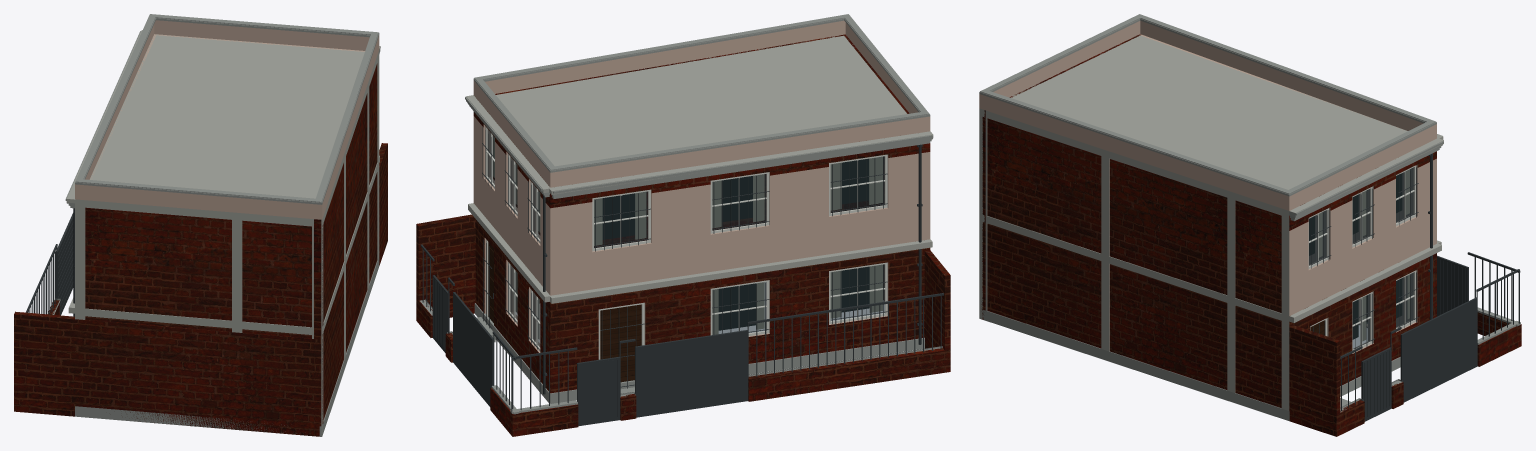
File: building.glb
3 renders of one model, left to right at view 1: azimuth 30°, elevation 25°; view 2: azimuth 150°, elevation 25°; view 3: azimuth 270°, elevation 25°, orthographic. The views are drawn at different scales.
Parts seen in each view (by area): view 1: roof/main:0/roof_slab#0001, site/fence/0/wall#0001, main:0/edge0/z0/main:0/edge0/z0/wall_0_0/core0, main:0/edge1/z0/main:0/edge1/z0/wall_0_0/core0, roof/main:0/parapet#0001, roof/main:0/parapet_cap#0002, roof/main:0/parapet_cap#0001, main:0/edge0/z0/main:0/edge0/z0/beam_0_0/core0, main:0/edge0/z0/main:0/edge0/z0/beam_1_0/core0, main:0/edge0/z0/plinth#0001, main:0/edge1/z0/main:0/edge1/z0/wall_0_0/clip1, main:0/edge0/z0/main:0/edge0/z0/column_2_0 (+7 smaller); view 2: roof/main:0/roof_slab#0001, main:0/edge3/z0/main:0/edge3/z0/wall_0_0, main:0/edge3/z0/main:0/edge3/z0/coating_0_0_0, roof/main:0/parapet#0001, site/fence/3/garage_door#0001, main:0/edge2/z0/main:0/edge2/z0/wall_0_0, site/fence/3/boundary_base#0003, roof/main:0/parapet_cap#0002, site/fence/1/wall#0001, main:0/edge3/z0/floor_slab#0001, site/fence/2/garage_door#0001, main:0/edge3/z0/main:0/edge3/z0/coating_0_1_0 (+40 smaller); view 3: main:0/edge1/z0/main:0/edge1/z0/wall_0_0/core0, roof/main:0/roof_slab#0001, roof/main:0/parapet#0001, main:0/edge2/z0/main:0/edge2/z0/wall_0_0, site/fence/2/garage_door#0001, site/fence/1/wall#0001, roof/main:0/parapet_cap#0002, main:0/edge1/z0/plinth#0001, main:0/edge1/z0/main:0/edge1/z0/beam_0_0/core0, roof/main:0/parapet_cap#0001, main:0/edge1/z0/main:0/edge1/z0/beam_1_0/core0, site/fence/2/pedestrian_gate#0001 (+26 smaller).
Boxes of the visible parts, <box> form: roof/main:0/roof_slab#0001: <box>75,34,364,219</box>; site/fence/0/wall#0001: <box>14,311,319,436</box>; main:0/edge0/z0/main:0/edge0/z0/wall_0_0/core0: <box>85,207,311,338</box>; main:0/edge1/z0/main:0/edge1/z0/wall_0_0/core0: <box>323,63,377,419</box>; roof/main:0/parapet#0001: <box>75,20,379,219</box>; roof/main:0/parapet_cap#0002: <box>75,14,378,202</box>; roof/main:0/parapet_cap#0001: <box>75,15,379,204</box>; main:0/edge0/z0/main:0/edge0/z0/beam_0_0/core0: <box>75,308,313,335</box>; main:0/edge0/z0/main:0/edge0/z0/beam_1_0/core0: <box>75,199,313,226</box>; main:0/edge0/z0/plinth#0001: <box>75,406,322,436</box>; main:0/edge1/z0/main:0/edge1/z0/wall_0_0/clip1: <box>314,219,321,436</box>; main:0/edge0/z0/main:0/edge0/z0/column_2_0: <box>232,220,242,321</box>; roof/main:0/roof_slab#0001: <box>496,35,906,166</box>; main:0/edge3/z0/main:0/edge3/z0/wall_0_0: <box>547,152,930,344</box>; main:0/edge3/z0/main:0/edge3/z0/coating_0_0_0: <box>550,247,930,393</box>; roof/main:0/parapet#0001: <box>473,20,930,187</box>; site/fence/3/garage_door#0001: <box>635,330,748,417</box>; main:0/edge2/z0/main:0/edge2/z0/wall_0_0: <box>473,116,557,352</box>; site/fence/3/boundary_base#0003: <box>748,348,950,401</box>; roof/main:0/parapet_cap#0002: <box>474,14,929,170</box>; site/fence/1/wall#0001: <box>416,214,475,317</box>; main:0/edge3/z0/floor_slab#0001: <box>550,239,932,303</box>; site/fence/2/garage_door#0001: <box>453,292,493,406</box>; main:0/edge3/z0/main:0/edge3/z0/coating_0_1_0: <box>550,143,930,208</box>; main:0/edge1/z0/main:0/edge1/z0/wall_0_0/core0: <box>987,118,1281,407</box>; roof/main:0/roof_slab#0001: <box>1010,35,1407,215</box>; roof/main:0/parapet#0001: <box>979,20,1436,210</box>; main:0/edge2/z0/main:0/edge2/z0/wall_0_0: <box>1289,162,1429,353</box>; site/fence/2/garage_door#0001: <box>1400,297,1477,402</box>; site/fence/1/wall#0001: <box>1289,325,1340,436</box>; roof/main:0/parapet_cap#0002: <box>980,14,1435,194</box>; main:0/edge1/z0/plinth#0001: <box>982,310,1289,420</box>; main:0/edge1/z0/main:0/edge1/z0/beam_0_0/core0: <box>979,213,1289,322</box>; roof/main:0/parapet_cap#0001: <box>979,18,1436,196</box>; main:0/edge1/z0/main:0/edge1/z0/beam_1_0/core0: <box>979,108,1289,217</box>; site/fence/2/pedestrian_gate#0001: <box>1361,347,1391,421</box>.
Bounding box in the file's own units: 12.74 × 6.39 × 13.56.
10 materials, 2 textured.
